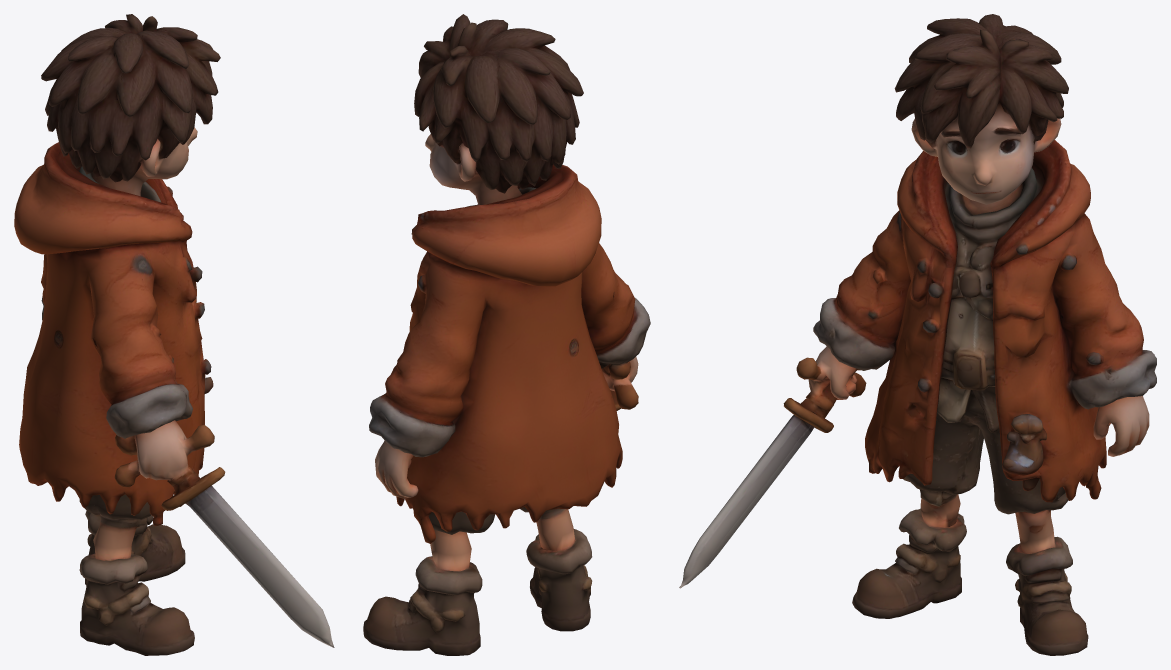
3 views of the same model, side by side, from view 1: azimuth 30°, elevation 25°; view 2: azimuth 150°, elevation 25°; view 3: azimuth 270°, elevation 25° (orthographic). The views are drawn at different scales.
Visible parts, largest first — view 1: tripo_node_49aeab5b-37f2-4500-b2e9-86b87e8ab24f; view 2: tripo_node_49aeab5b-37f2-4500-b2e9-86b87e8ab24f; view 3: tripo_node_49aeab5b-37f2-4500-b2e9-86b87e8ab24f.
Part boxes in pixels (x1,y1,x2,y2): tripo_node_49aeab5b-37f2-4500-b2e9-86b87e8ab24f: [14, 14, 334, 655]; tripo_node_49aeab5b-37f2-4500-b2e9-86b87e8ab24f: [363, 14, 650, 655]; tripo_node_49aeab5b-37f2-4500-b2e9-86b87e8ab24f: [679, 14, 1156, 655].
Bounding box in the file's own units: 0.3464 × 1 × 0.7241.
1 material, 1 textured.
